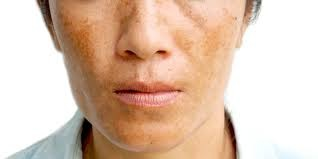Melasma: (53, 8, 113, 98), (170, 0, 234, 66), (107, 109, 171, 145), (121, 0, 148, 33)
